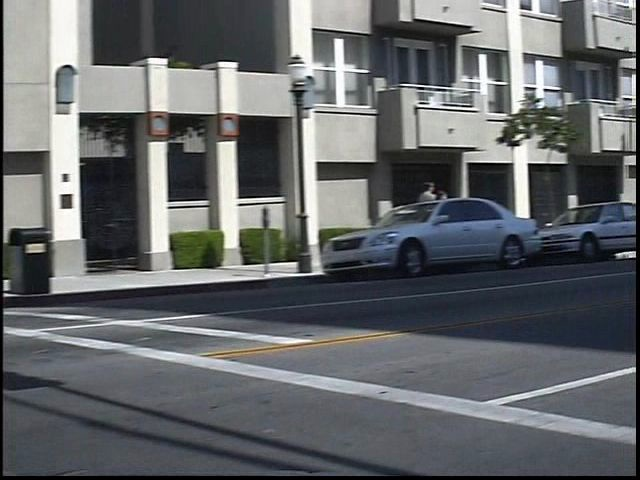person: (429, 178, 453, 252), (448, 186, 467, 247)
